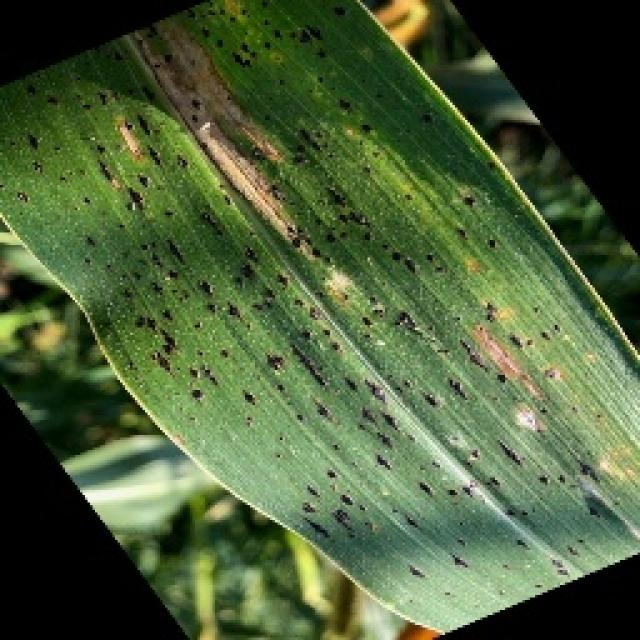Tar_Spot: (259, 245, 456, 563), (90, 99, 236, 397)
